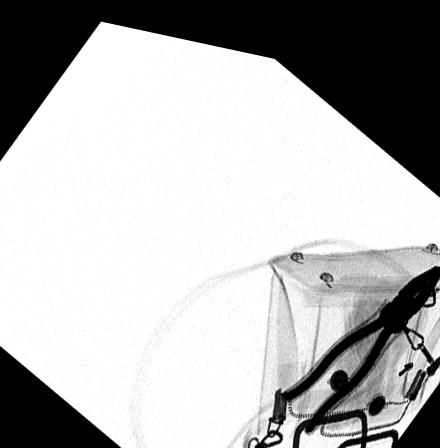Pliers: (280, 243, 440, 421)
